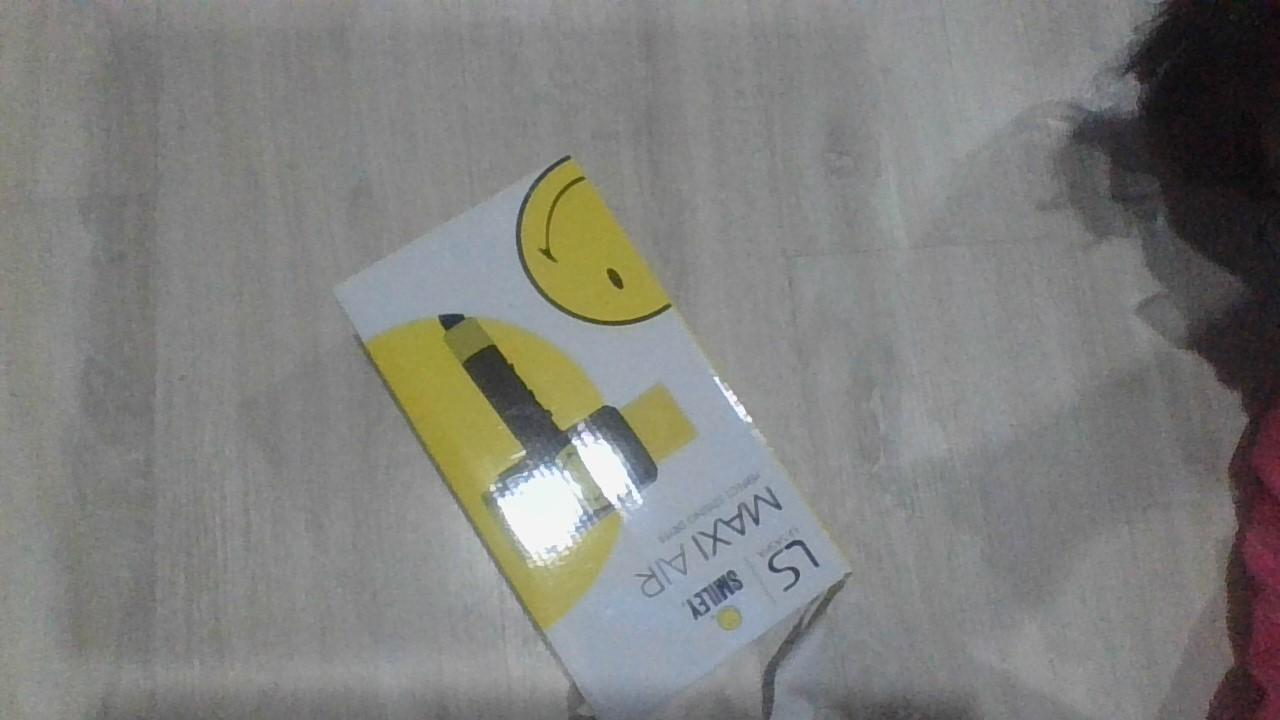Dryer: (330, 150, 854, 715)
